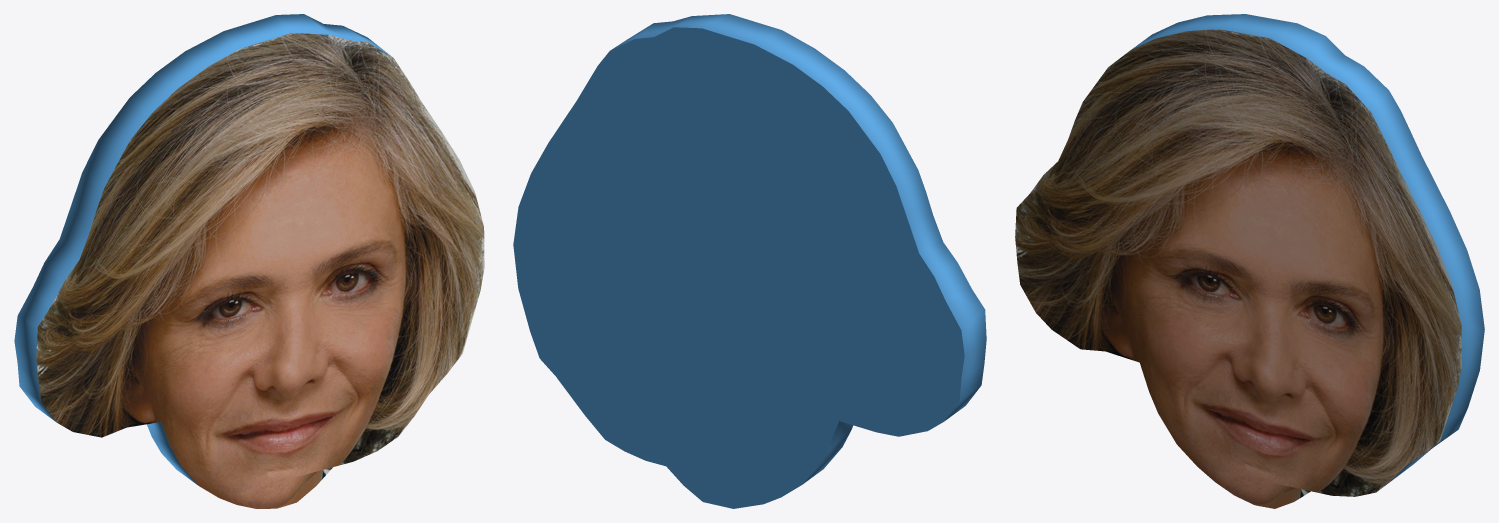
The model's file is Valerie_Pecresse.glb.
3 renders of one model, left to right at view 1: azimuth 30°, elevation 25°; view 2: azimuth 150°, elevation 25°; view 3: azimuth 330°, elevation 25°, orthographic.
Visible parts, largest first — view 1: Curve; view 2: Curve; view 3: Curve.
Part boxes in pixels (left/top/right/bottom): Curve: left=14, top=14, right=484, bottom=508; Curve: left=513, top=14, right=986, bottom=508; Curve: left=1015, top=14, right=1484, bottom=508.
Size of the model in its own units: 1.8 by 1.81 by 0.1521.
Materials: 2 (1 with a texture image).
